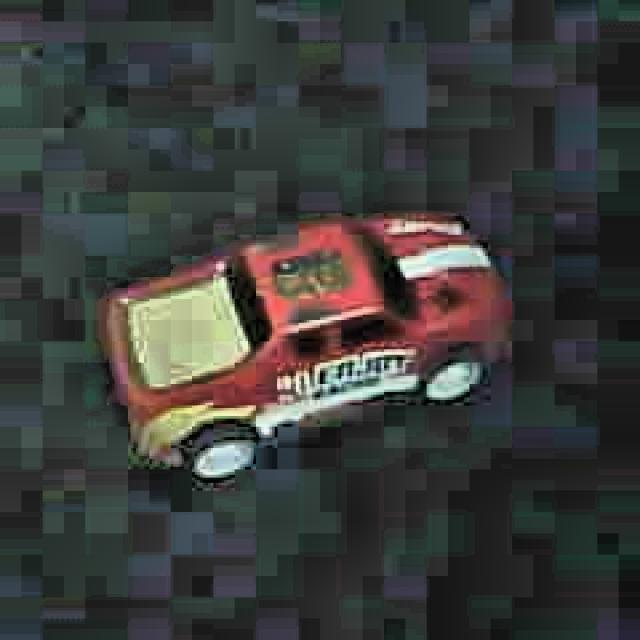car: (104, 210, 506, 482)
